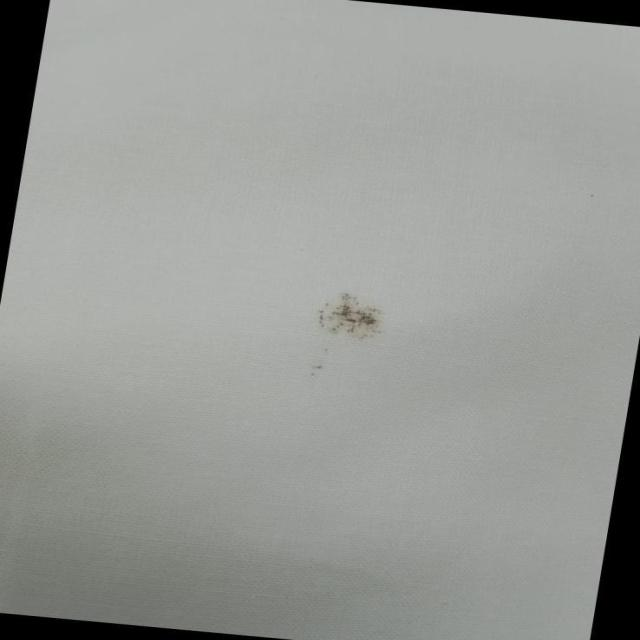stain: (296, 286, 393, 382)
